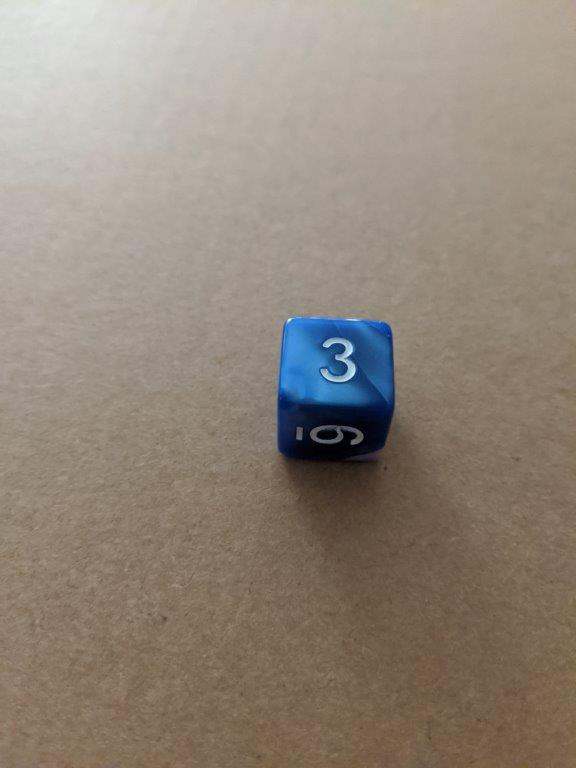d6-3: (275, 317, 397, 462)
